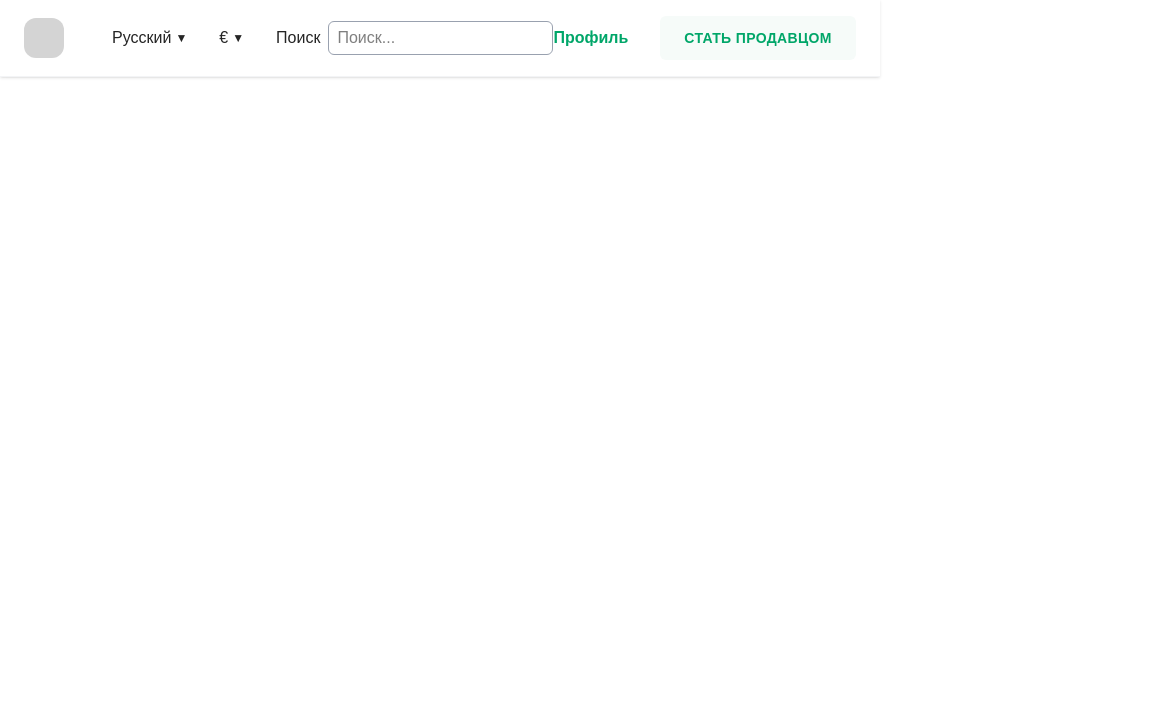
it: Header › открывает список языков
The width and height of the screenshot is (1152, 720).
Click the text "Русский". click: (142, 38)
box: [112,26,171,50]
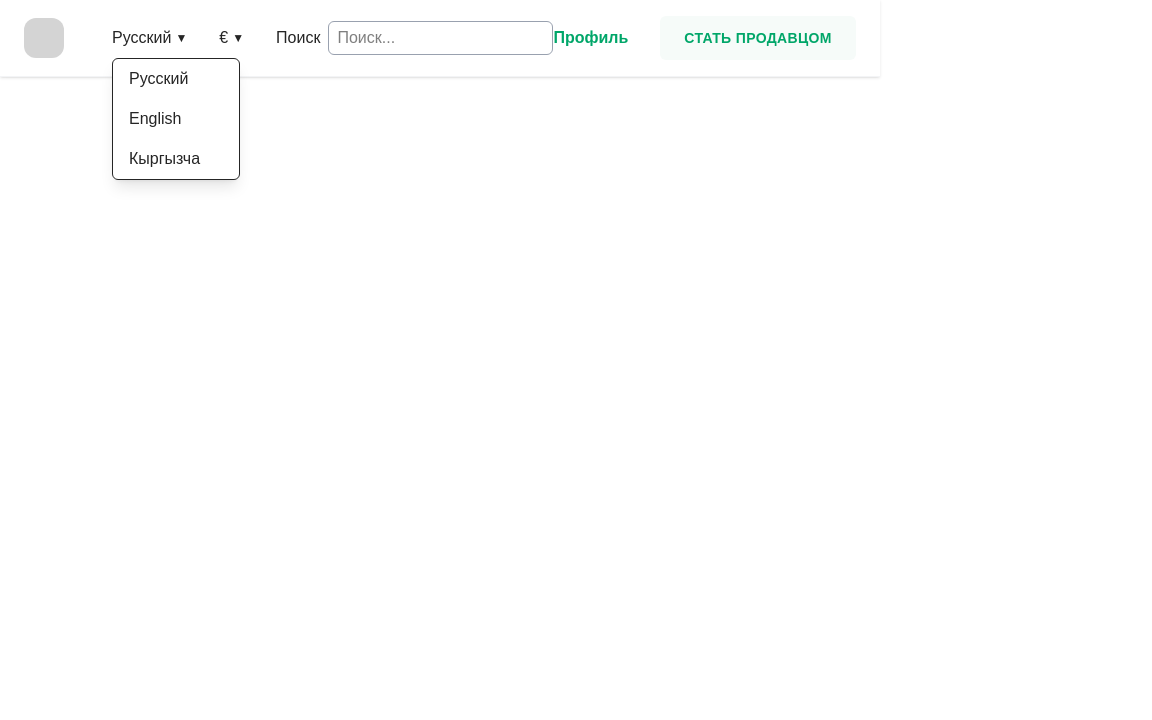
Expected: the list item "English" is shown, [129,110,182,127]
Expected: the list item "Кыргызча" is shown, [129,150,200,167]
